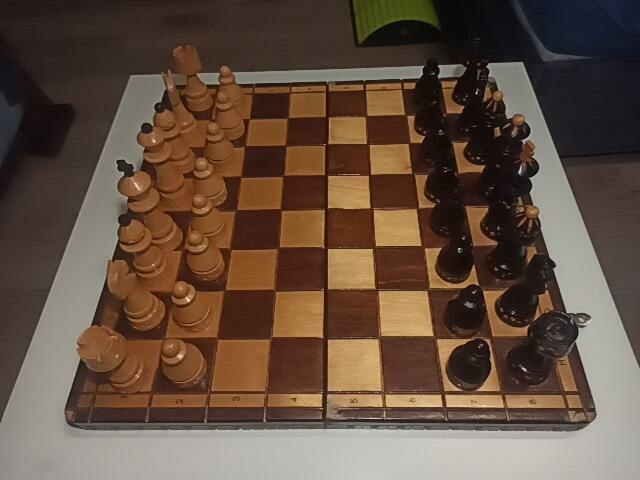B-Bishop: (488, 206, 541, 281), (464, 91, 515, 164)
B-King: (481, 141, 540, 240)
B-Knight: (496, 254, 559, 326), (459, 69, 500, 137)
B-Pawn: (445, 339, 491, 390), (445, 284, 487, 338), (436, 230, 474, 282), (420, 115, 457, 167), (424, 154, 462, 203), (431, 186, 467, 235), (414, 86, 448, 137), (415, 58, 443, 106)
B-Queen: (478, 114, 531, 205)
B-Rook: (507, 311, 579, 386), (452, 37, 491, 105)
W-Bishop: (116, 214, 171, 286), (152, 103, 195, 174)
W-King: (115, 159, 182, 250)
W-Knight: (105, 259, 165, 329), (160, 70, 199, 142)
W-Pawn: (159, 338, 207, 386), (171, 281, 212, 332), (186, 230, 225, 279), (189, 194, 227, 242), (192, 158, 228, 207), (204, 122, 237, 170), (212, 93, 245, 141), (217, 67, 248, 115)
W-Queen: (137, 122, 189, 206)
W-Rook: (76, 324, 147, 391), (172, 45, 214, 111)
